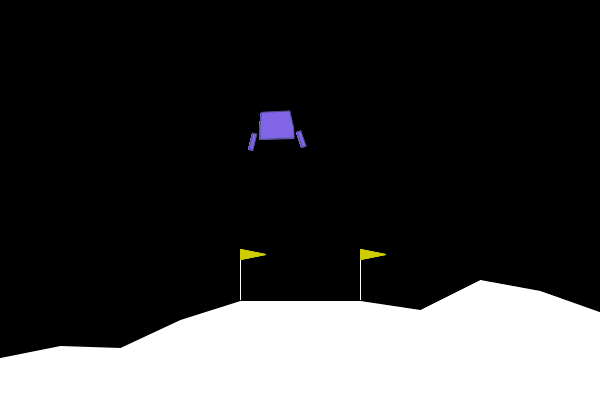lander: (245, 108, 307, 151)
